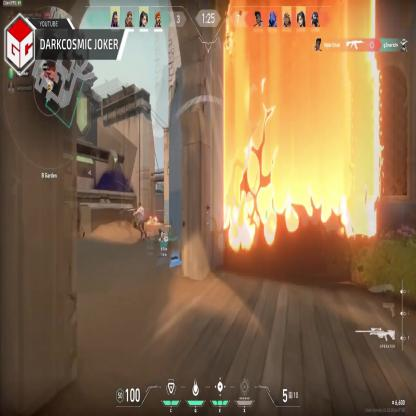enemy: (134, 202, 146, 238)
enemy_head: (138, 203, 141, 208)
